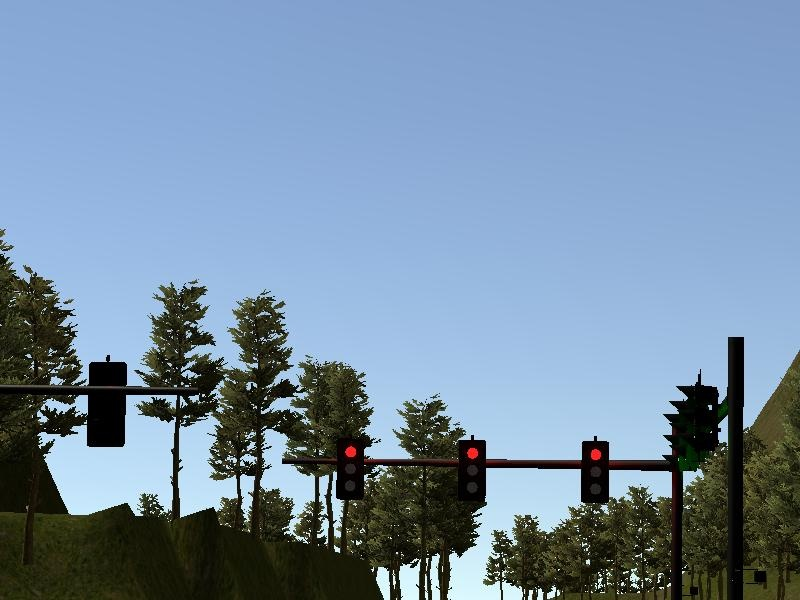red: (579, 439, 612, 505), (457, 438, 487, 504), (335, 437, 364, 501)
